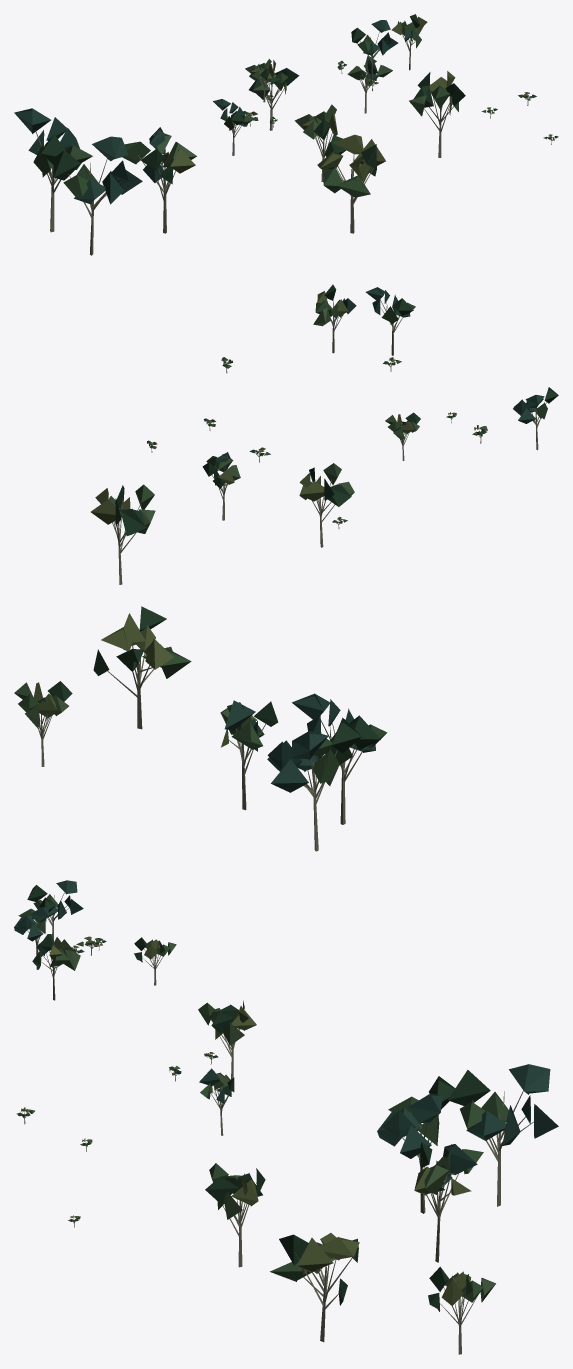
Rendered from forest_23_26.dae.
3 renders of one model, top to bottom at view 1: azimuth 30°, elevation 25°; view 2: azimuth 150°, elevation 25°; view 3: azimuth 270°, elevation 25°, orthographic. The views are drawn at different scales.
Visible parts, largest first — view 1: Node; view 2: Node; view 3: Node.
Boxes of the visible parts, box(x1,y1,x2,y2) form: Node: box(14, 14, 558, 255); Node: box(14, 284, 558, 851); Node: box(14, 880, 558, 1354).
Bounding box in the file's own units: 10.06 × 11.23 × 8.73.
